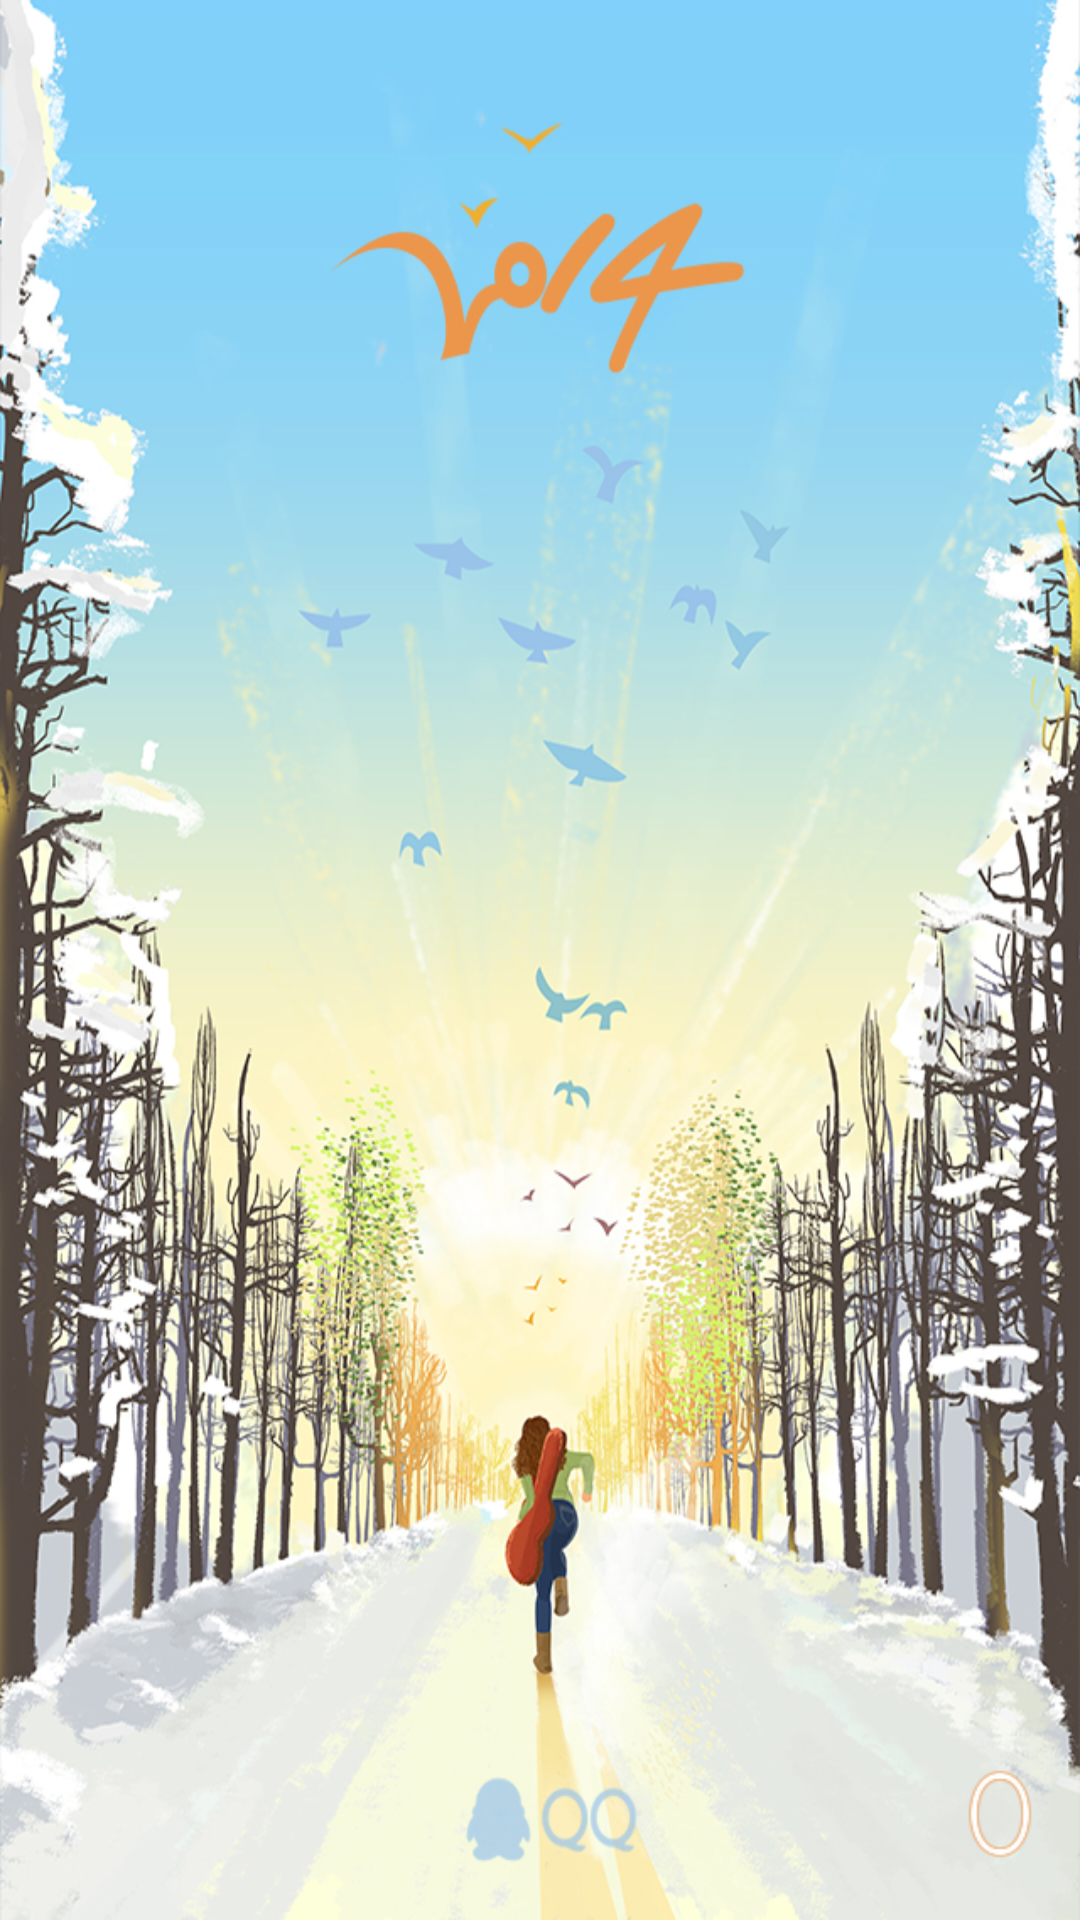

Named icons in this screenshot (1080x1920) and their centers, [x,y]:
page score pic: [1000,1812]
